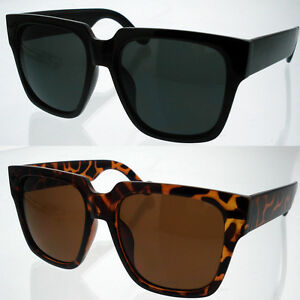sunglasses: (5, 159, 287, 290), (5, 9, 268, 143)
